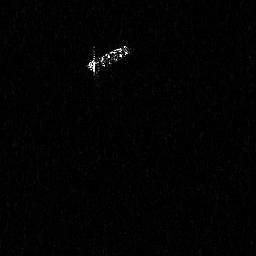ship: (86, 42, 130, 77)
